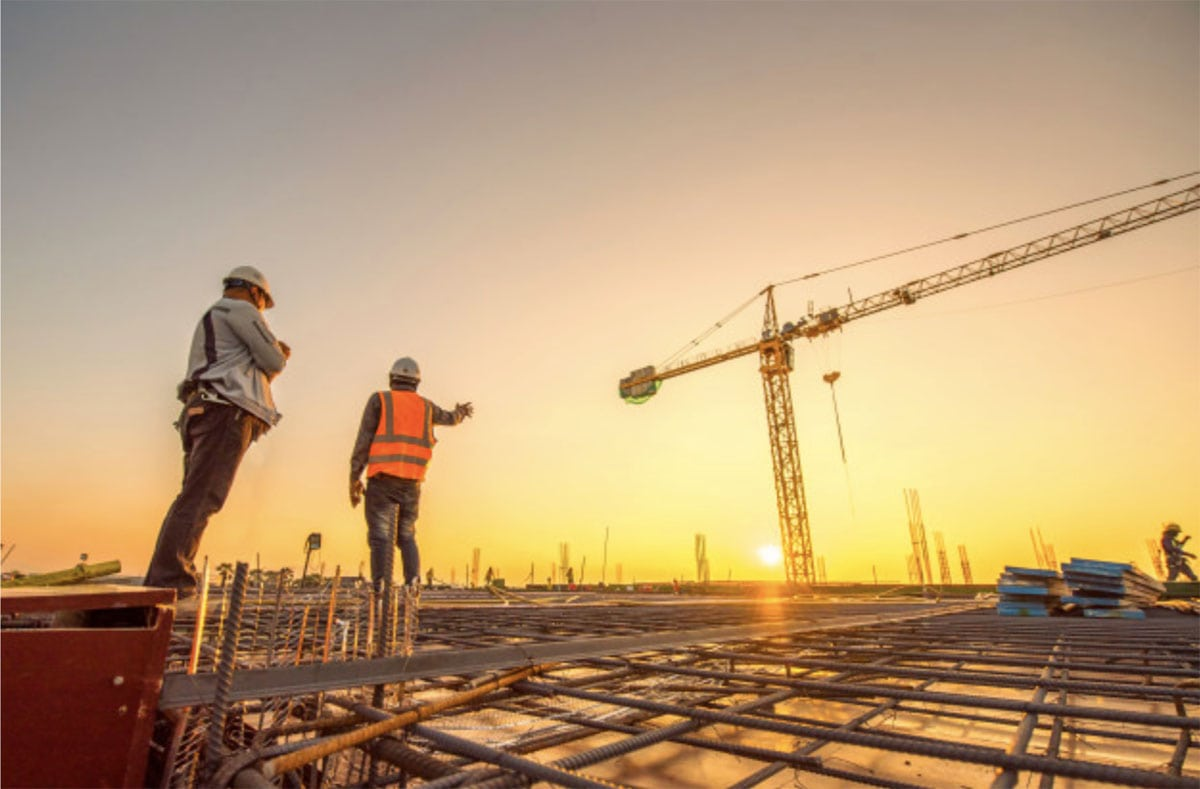With Helmet: (217, 260, 280, 313), (385, 352, 428, 396)
